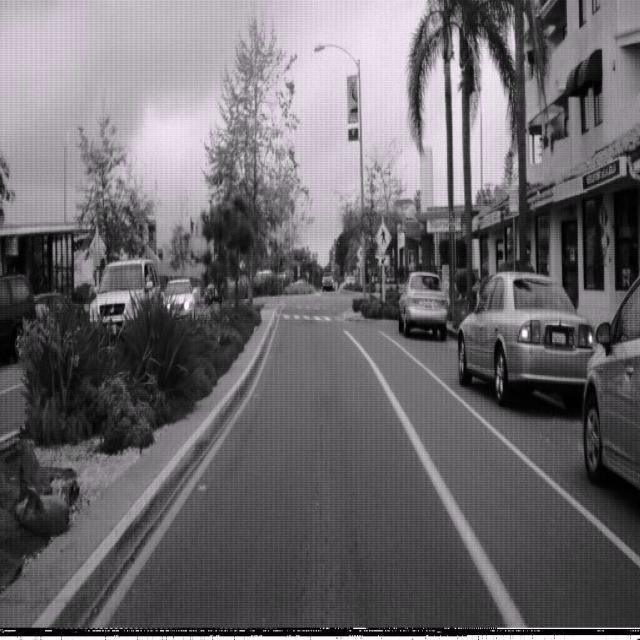pedestrianCrossing: (374, 218, 392, 255)
